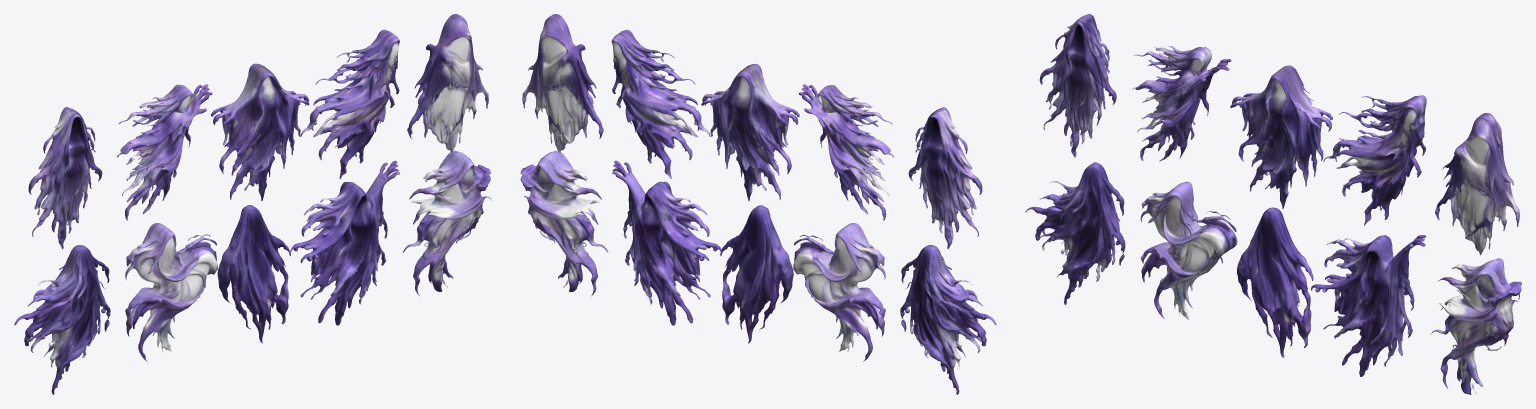
File: ghost-figures-1.glb
3 renders of one model, left to right at view 1: azimuth 30°, elevation 25°; view 2: azimuth 150°, elevation 25°; view 3: azimuth 330°, elevation 25°, orthographic. The views are drawn at different scales.
Parts seen in each view (by area): view 1: model; view 2: model; view 3: model.
Boxes of the visible parts, bbox=[...] form: model: bbox=[14, 14, 491, 394]; model: bbox=[520, 14, 996, 394]; model: bbox=[1025, 14, 1521, 394].
Bounding box in the file's own units: 1.9 × 1.08 × 0.1701.
1 material, 1 textured.
